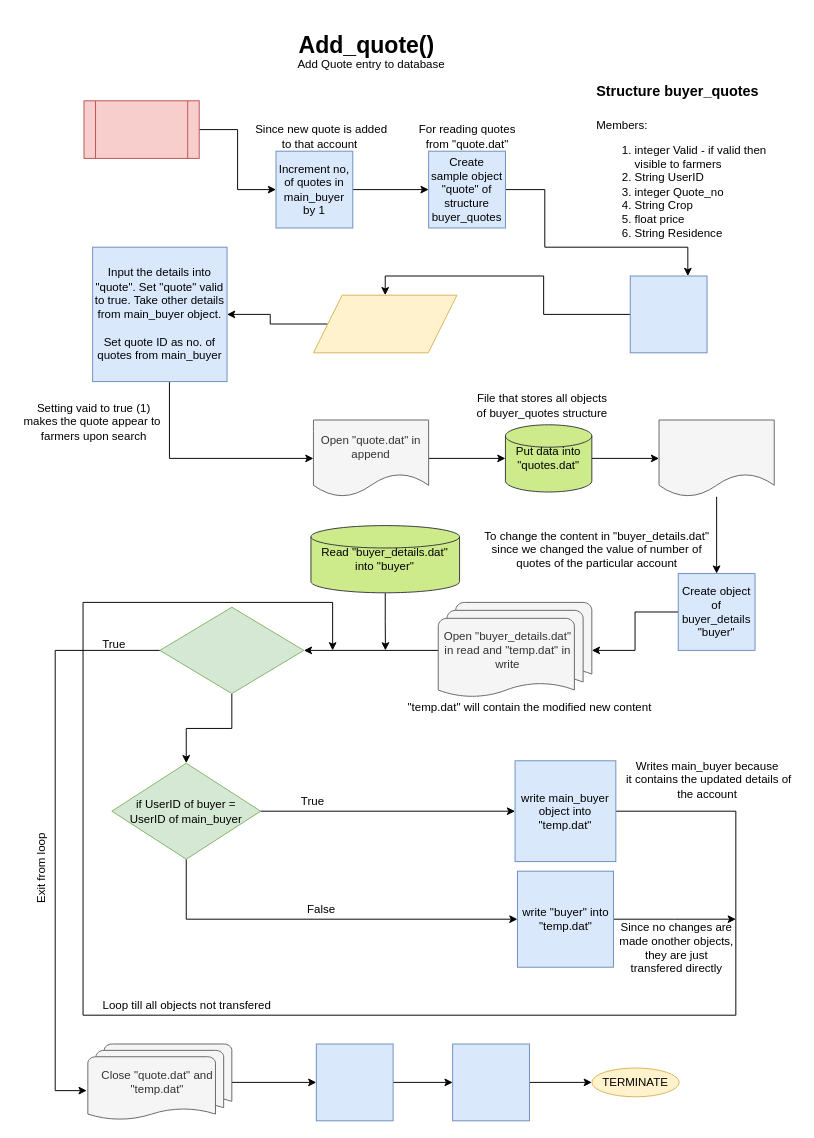
Image size: 814x1138. Some labels were removed from this diagram. Each missing label, with the centre of its shape:
Add_quote: point 141,129
Close "quote.dat": point 716,458
Console Clear Screen: point 668,314
Remove "quotes.dat": point 354,1082
Rename "temp.dat" to "quotes.dat": point 490,1082
Request crop and price details of the quote from buyer: point 384,323
While end of file of "buyer_details.dat": point 231,650
